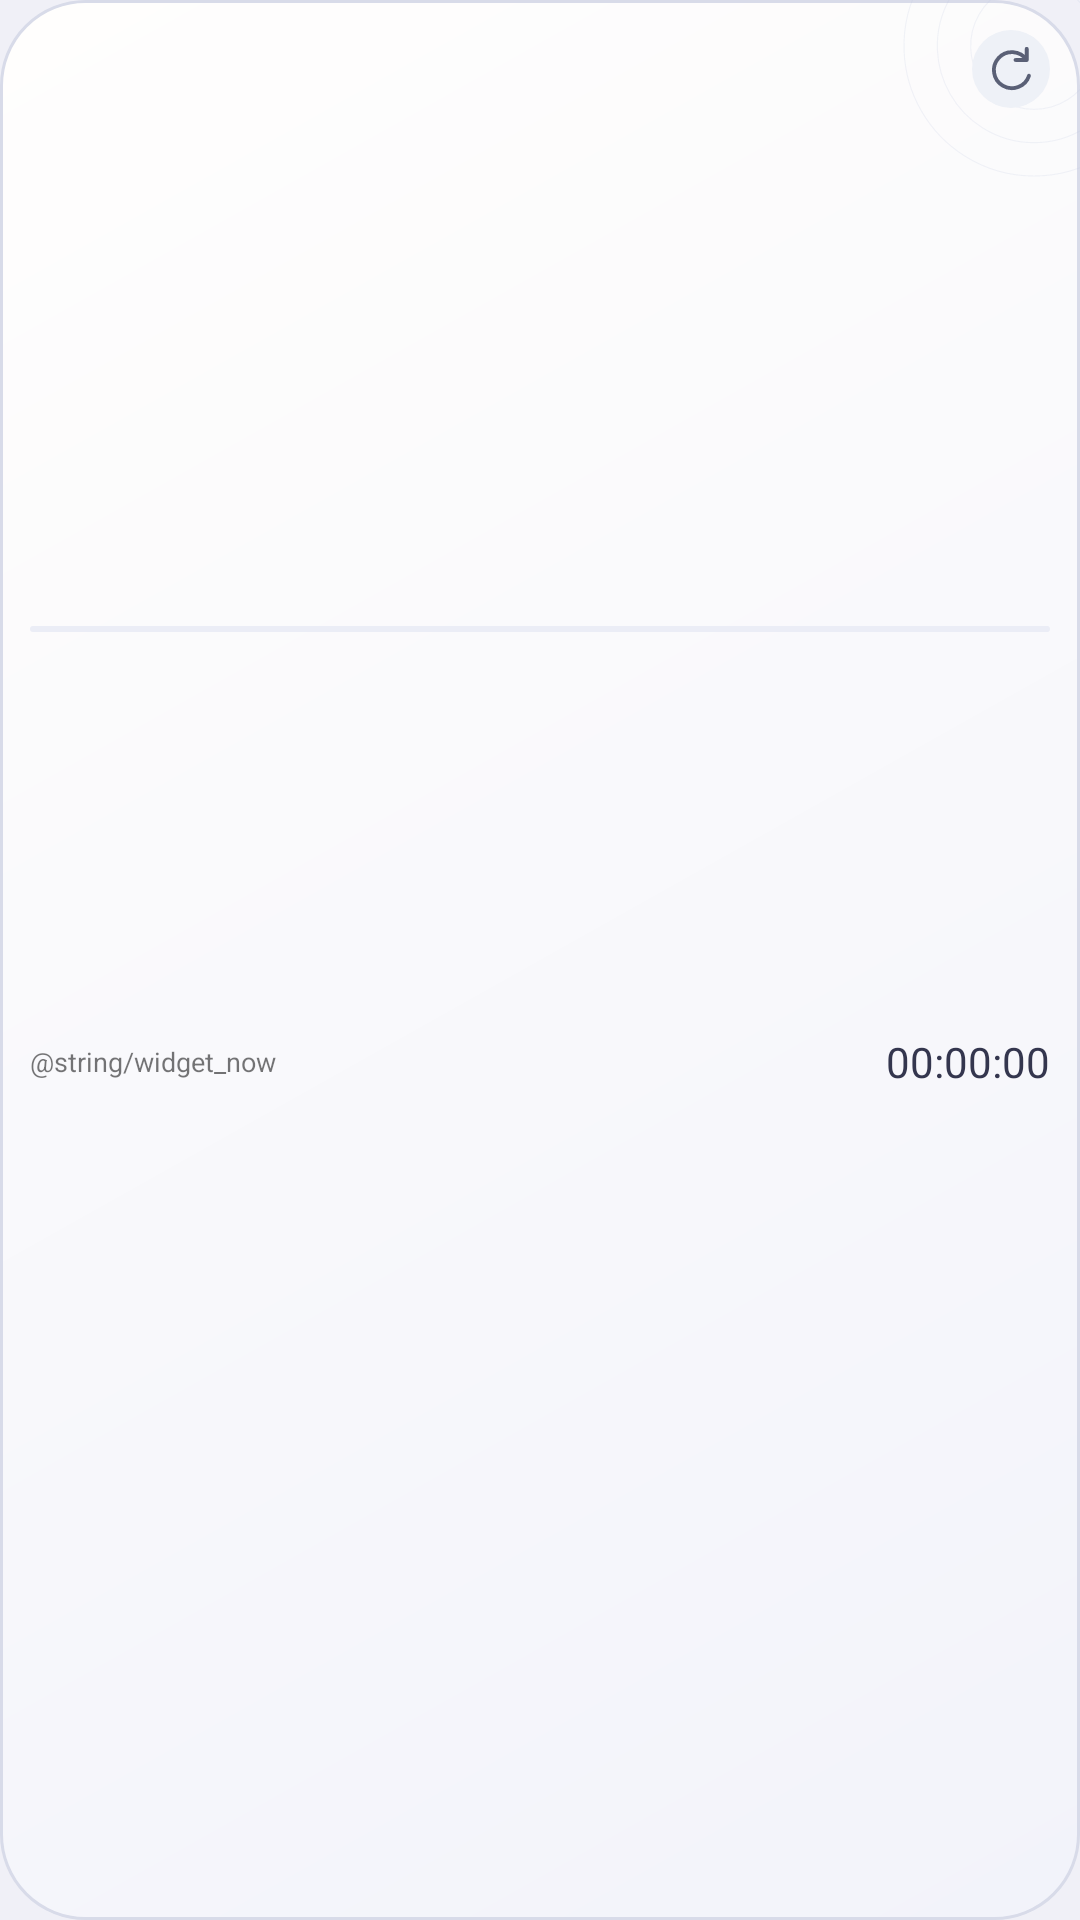

Icons on this 1080px x 1920px Android screen, each with its box as (x1, y1, x2, y2):
刷新班次信息: (972, 30, 1050, 108)
